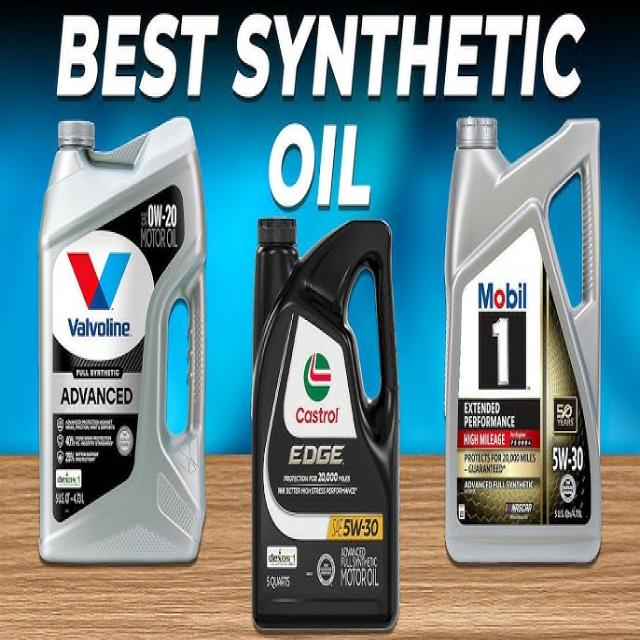motor_oil: (35, 113, 212, 570), (441, 110, 605, 579), (249, 210, 401, 637)
